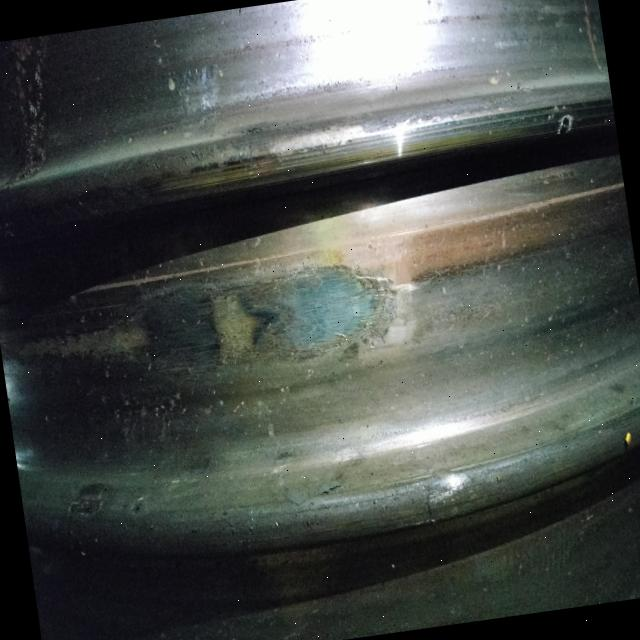flat: (57, 246, 444, 421)
